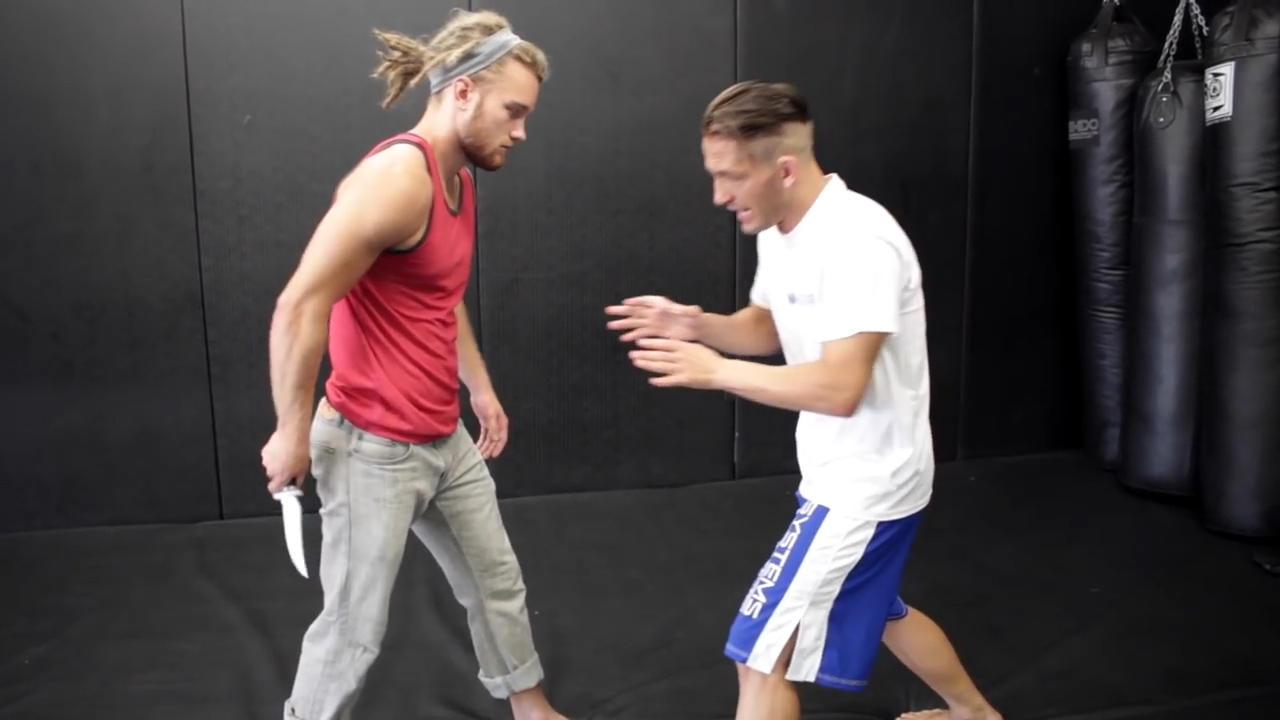knife: (250, 435, 314, 588)
